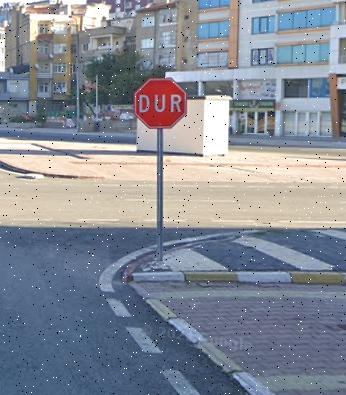stop: (133, 79, 187, 128)
